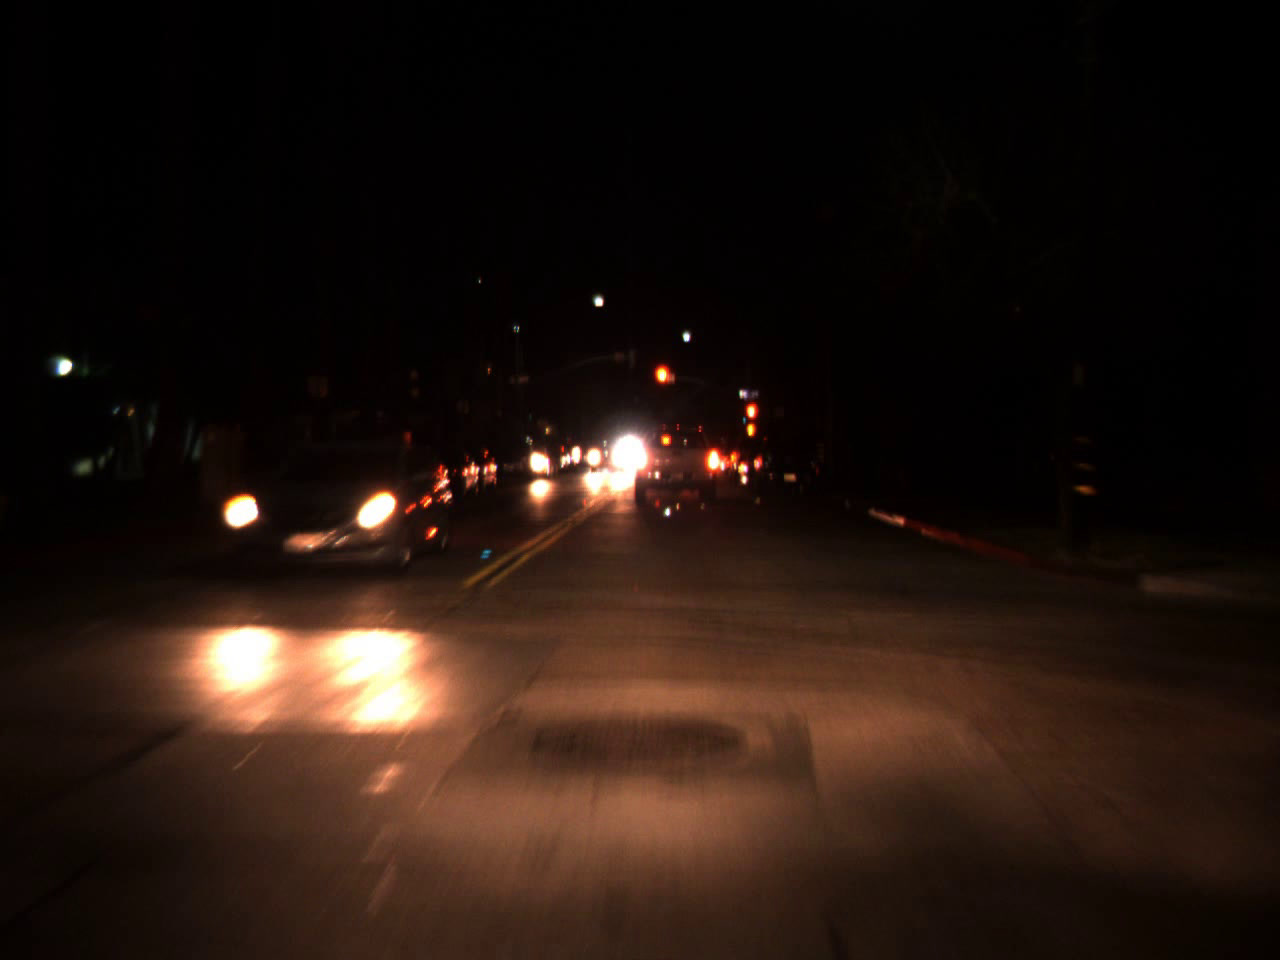stop: (652, 361, 674, 406), (743, 400, 759, 437)
